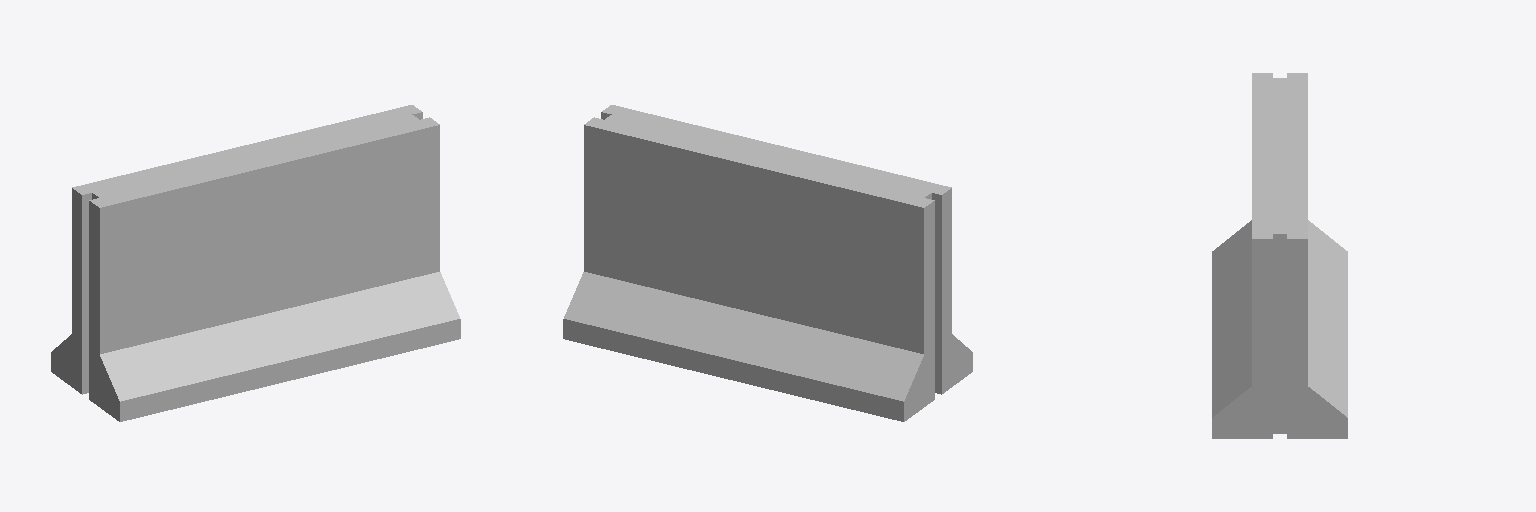
The model's file is ConcreteBarricade.obj.
3 renders of one model, left to right at view 1: azimuth 30°, elevation 25°; view 2: azimuth 150°, elevation 25°; view 3: azimuth 270°, elevation 25°, orthographic.
Visible parts, largest first — view 1: pCube1; view 2: pCube1; view 3: pCube1.
Boxes of the visible parts, x1=… form: pCube1: x1=51, y1=105, x2=460, y2=421; pCube1: x1=563, y1=105, x2=972, y2=421; pCube1: x1=1212, y1=73, x2=1347, y2=438.
Bounding box in the file's own units: 7.42 × 4.15 × 2.58.